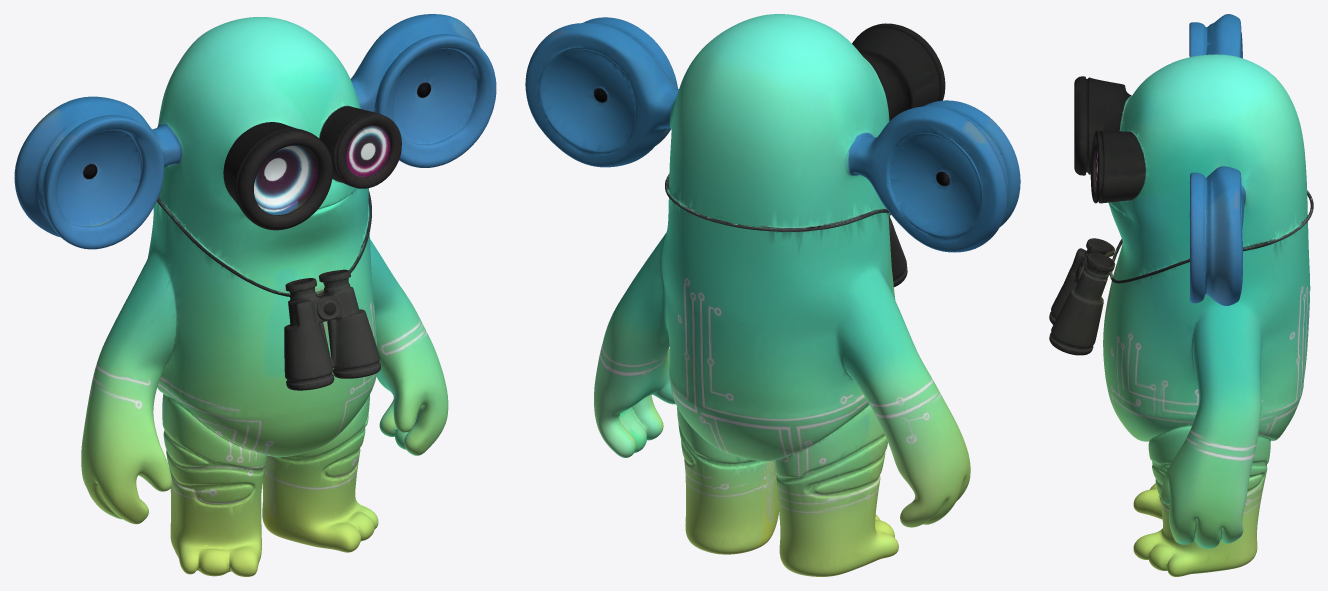
The model's file is scout.glb.
The picture shows the model from 3 angles, left to right: view 1: azimuth 30°, elevation 25°; view 2: azimuth 150°, elevation 25°; view 3: azimuth 270°, elevation 25°; orthographic projection. The views are drawn at different scales.
Size of the model in its own units: 1.81 by 1.9 by 0.9583.
Materials: 1 (1 with a texture image).
